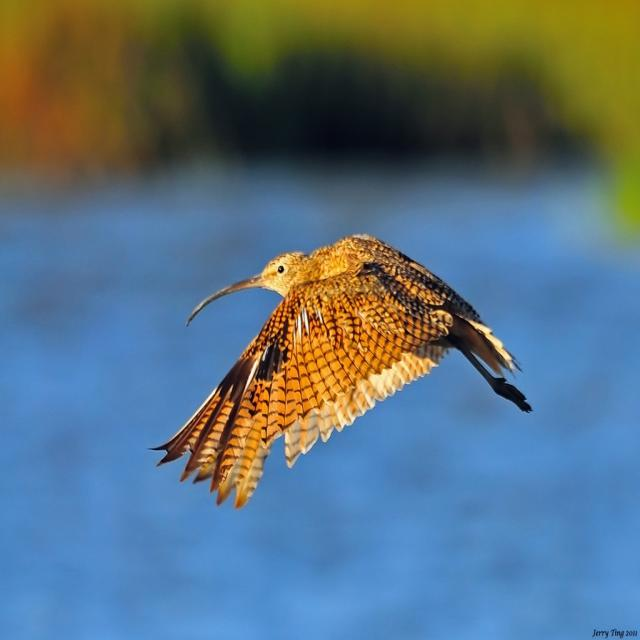bird: (143, 215, 550, 520)
